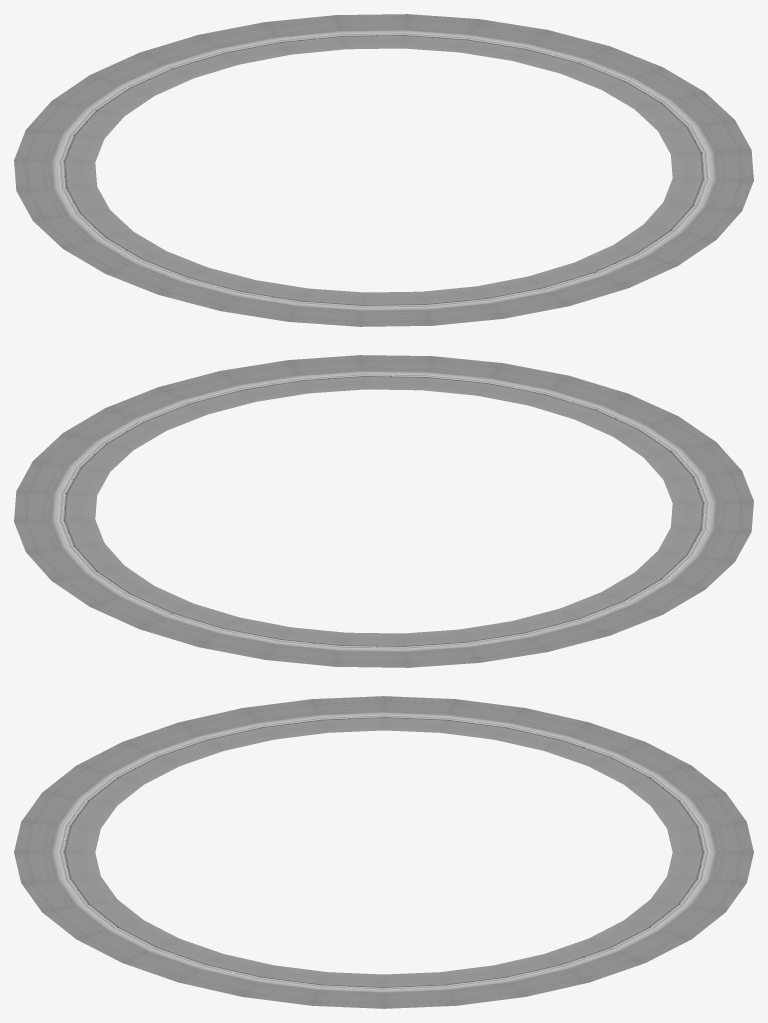
File: neptuneRing.obj
The picture shows the model from 3 angles, top to bottom: view 1: azimuth 30°, elevation 25°; view 2: azimuth 150°, elevation 25°; view 3: azimuth 270°, elevation 25°; orthographic projection.
Parts seen in each view (by area): view 1: Circle_Circle.001; view 2: Circle_Circle.001; view 3: Circle_Circle.001.
Part boxes in pixels (box(x1,y1,x2,y2)): Circle_Circle.001: box(14, 14, 753, 326); Circle_Circle.001: box(14, 355, 753, 667); Circle_Circle.001: box(14, 696, 753, 1008).
Size of the model in its own units: 7.75 by 0 by 7.75.
1 material, 1 textured.
